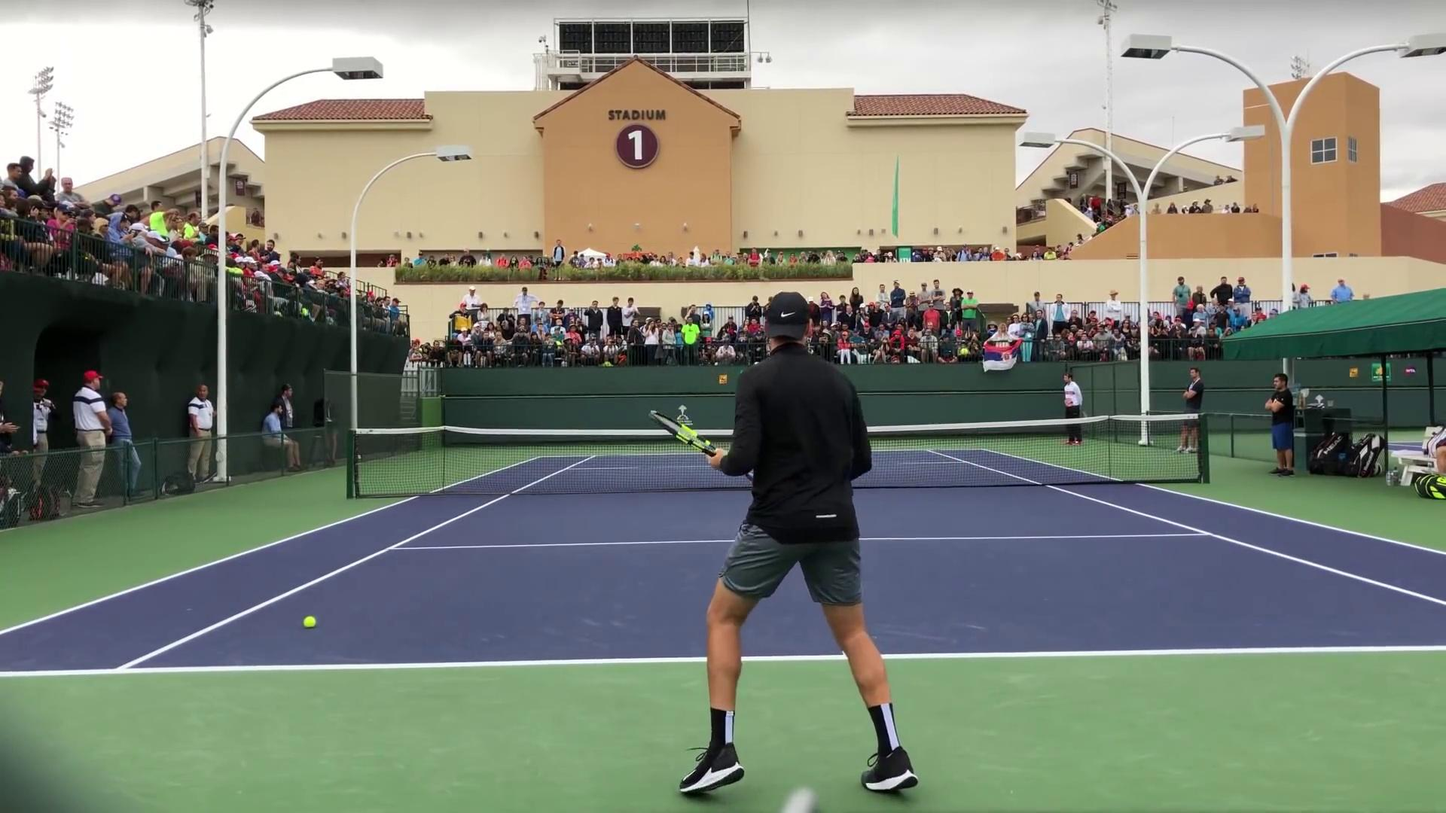ball: (303, 616, 316, 629)
